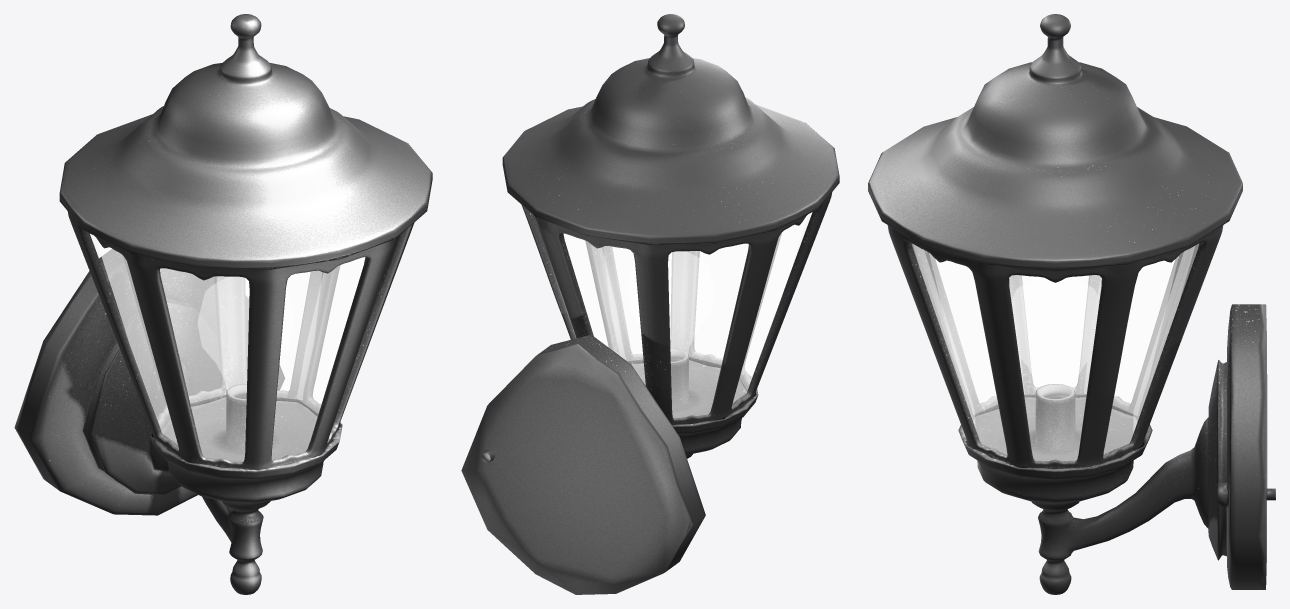
File: wall_lamp.glb
3 renders of one model, left to right at view 1: azimuth 30°, elevation 25°; view 2: azimuth 150°, elevation 25°; view 3: azimuth 270°, elevation 25°, orthographic. The views are drawn at different scales.
Visible parts, largest first — view 1: Object_5, Object_2, Object_4, Object_6, Object_3; view 2: Object_5, Object_2, Object_4, Object_6, Object_7, Object_3; view 3: Object_5, Object_2, Object_4, Object_6, Object_3.
Part boxes in pixels (x1=…): Object_5: x1=59, y1=14, x2=432, y2=269; Object_2: x1=14, y1=249, x2=342, y2=594; Object_4: x1=67, y1=211, x2=414, y2=469; Object_6: x1=95, y1=237, x2=365, y2=461; Object_3: x1=198, y1=277, x2=294, y2=392; Object_5: x1=502, y1=14, x2=839, y2=244; Object_2: x1=461, y1=334, x2=758, y2=594; Object_4: x1=521, y1=192, x2=832, y2=424; Object_6: x1=564, y1=214, x2=808, y2=418; Object_7: x1=509, y1=379, x2=575, y2=482; Object_3: x1=627, y1=251, x2=714, y2=354; Object_5: x1=868, y1=14, x2=1242, y2=269; Object_2: x1=958, y1=304, x2=1275, y2=594; Object_4: x1=887, y1=225, x2=1223, y2=468; Object_6: x1=912, y1=244, x2=1198, y2=460; Object_3: x1=1012, y1=277, x2=1098, y2=390.
Bounding box in the file's own units: 0.7813 × 1.32 × 0.85.
Materials: 6 (5 with a texture image).
